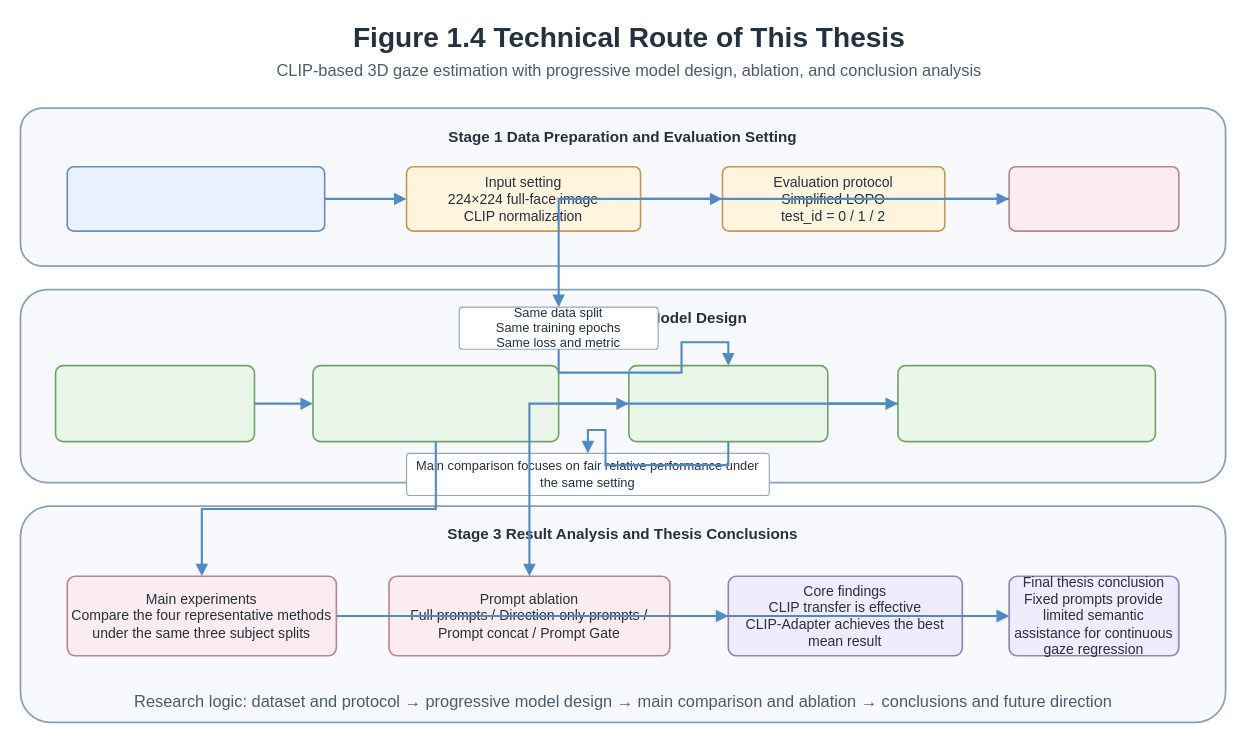
This 1247x743 diagram has some shape labels left out. The centre of each missing label's shape, as x and y in pixels:
Exp1 ResNet baseline Traditional visual baseline: the point at 154,403
Exp2-A Frozen CLIP image encoder + MLP Verify CLIP visual transferability: the point at 435,403
Exp2-B CLIP-Adapter Lightweight feature adaptation: the point at 727,403
Exp3 Prompt-Gated CLIP-Adapter Explore fixed-prompt semantic guidance: the point at 1026,403
MPIIFaceGaze dataset Full-face image, pose, and gaze labels: the point at 195,198
Unified metric Mean angular error (lower is better): the point at 1093,198
